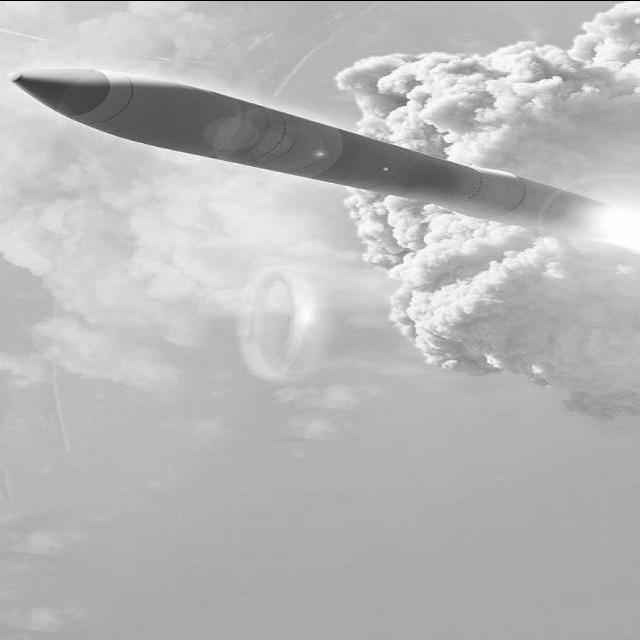Missile: (6, 62, 619, 239)
